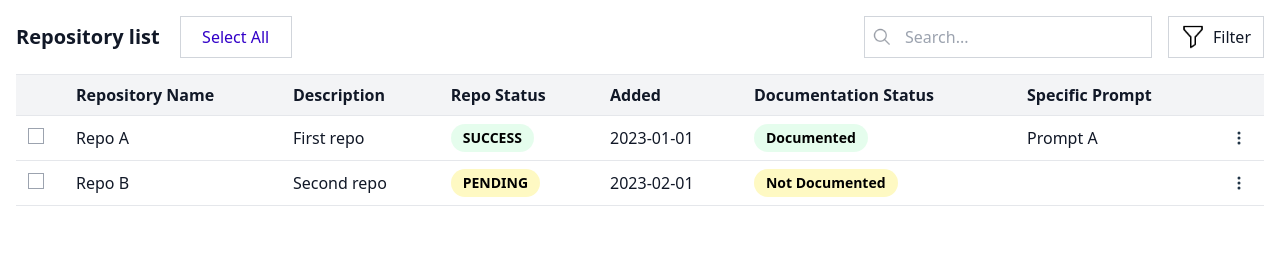
Test: AdminRepoDataTable - Integration Tests › selects a row on click
Click the text "First repo" at (329, 138), box [293, 127, 364, 149]
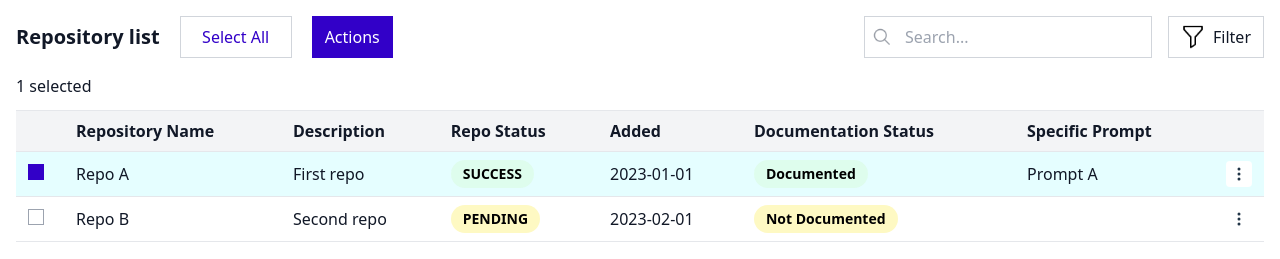
Now the text "1 selected" is shown, box [16, 75, 92, 97]
